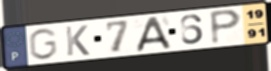6: (179, 14, 206, 46)
7: (105, 18, 131, 55)
A: (134, 15, 174, 54)
G: (27, 27, 59, 62)
K: (64, 24, 92, 57)
P: (208, 8, 244, 46)
